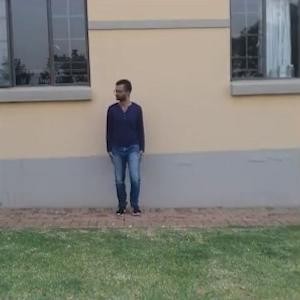follow: (105, 77, 146, 215)
